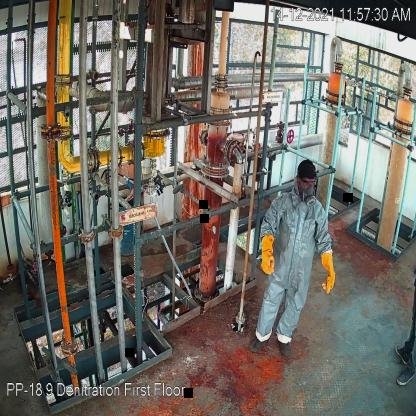goggles: (300, 178, 316, 188)
mask: (300, 188, 316, 209)
